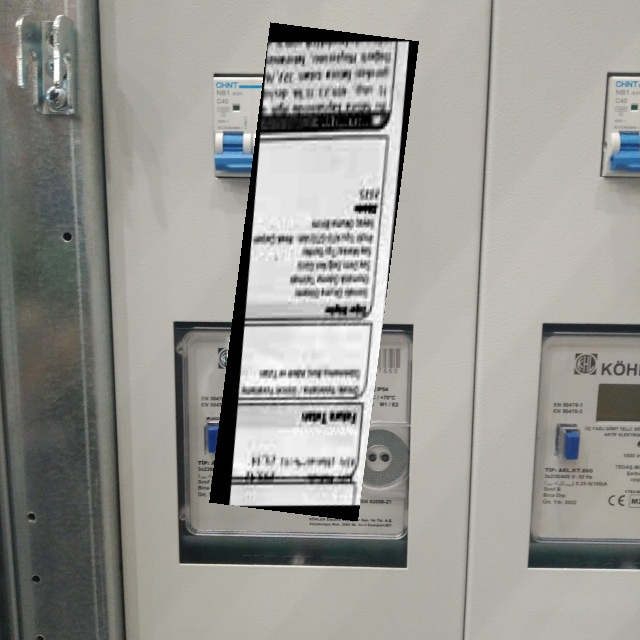electricity-bill: (209, 22, 419, 521)
